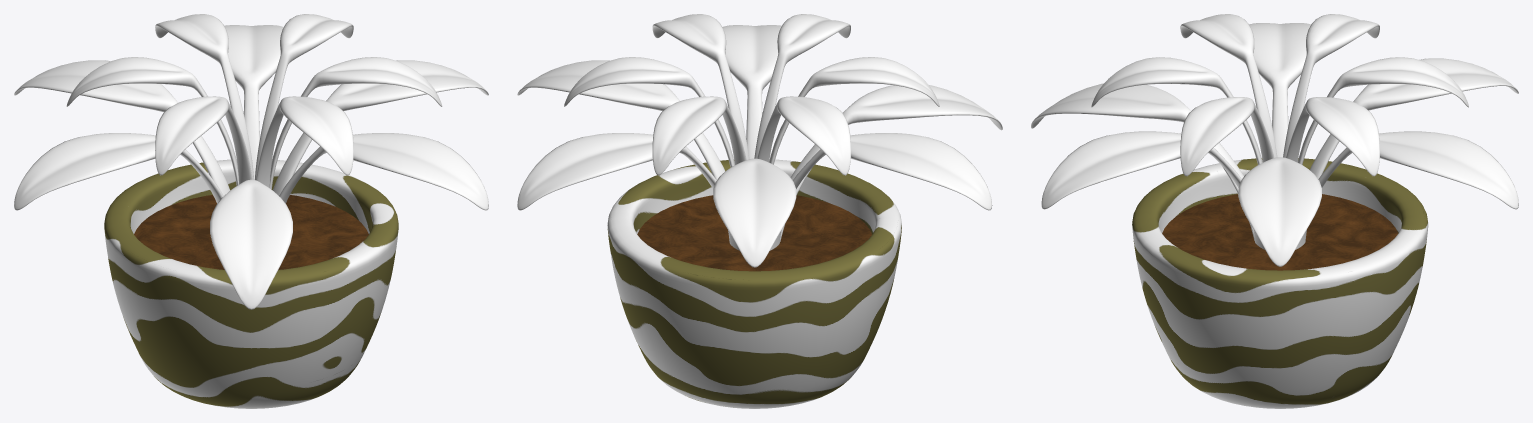
The model's file is WavyPlantPot.glb.
3 renders of one model, left to right at view 1: azimuth 30°, elevation 25°; view 2: azimuth 150°, elevation 25°; view 3: azimuth 270°, elevation 25°, orthographic.
Parts seen in each view (by area): view 1: Flower Pot, Dirt, Leaf.005, Leaf, Leaf.004, Leaf.011, Leaf.006, Leaf.001, Leaf.002, Leaf.003, Leaf.010, Leaf.007 (+2 smaller); view 2: Flower Pot, Dirt, Leaf.001, Leaf, Leaf.002, Leaf.005, Leaf.004, Leaf.008, Leaf.007, Leaf.003, Leaf.009, Leaf.006 (+2 smaller); view 3: Flower Pot, Dirt, Leaf.003, Leaf.004, Leaf.002, Leaf, Leaf.005, Leaf.009, Leaf.010, Leaf.001, Leaf.008, Leaf.011 (+2 smaller).
Boxes of the visible parts, x1=… form: Flower Pot: x1=104, y1=159, x2=398, y2=408; Dirt: x1=134, y1=195, x2=368, y2=269; Leaf.005: x1=210, y1=179, x2=292, y2=309; Leaf: x1=14, y1=133, x2=223, y2=210; Leaf.004: x1=279, y1=133, x2=488, y2=210; Leaf.011: x1=256, y1=96, x2=353, y2=187; Leaf.006: x1=155, y1=96, x2=252, y2=184; Leaf.001: x1=14, y1=60, x2=230, y2=195; Leaf.002: x1=224, y1=25, x2=283, y2=179; Leaf.003: x1=272, y1=60, x2=488, y2=195; Leaf.010: x1=269, y1=57, x2=442, y2=189; Leaf.007: x1=66, y1=57, x2=238, y2=185; Flower Pot: x1=607, y1=159, x2=901, y2=408; Dirt: x1=637, y1=195, x2=871, y2=271; Leaf.001: x1=713, y1=158, x2=796, y2=267; Leaf: x1=769, y1=133, x2=992, y2=250; Leaf.002: x1=517, y1=133, x2=739, y2=250; Leaf.005: x1=780, y1=85, x2=1002, y2=241; Leaf.004: x1=722, y1=25, x2=781, y2=158; Leaf.008: x1=652, y1=96, x2=746, y2=175; Leaf.007: x1=757, y1=96, x2=850, y2=175; Leaf.003: x1=517, y1=60, x2=725, y2=179; Leaf.009: x1=564, y1=57, x2=734, y2=167; Leaf.006: x1=769, y1=57, x2=939, y2=164; Flower Pot: x1=1132, y1=158, x2=1428, y2=408; Dirt: x1=1162, y1=194, x2=1398, y2=270; Leaf.003: x1=1238, y1=157, x2=1321, y2=266; Leaf.004: x1=1041, y1=131, x2=1264, y2=249; Leaf.002: x1=1295, y1=131, x2=1518, y2=249; Leaf: x1=1249, y1=23, x2=1310, y2=157; Leaf.005: x1=1031, y1=83, x2=1254, y2=240; Leaf.009: x1=1286, y1=97, x2=1379, y2=176; Leaf.010: x1=1180, y1=97, x2=1274, y2=176; Leaf.001: x1=1310, y1=58, x2=1518, y2=178; Leaf.008: x1=1298, y1=57, x2=1468, y2=164; Leaf.011: x1=1091, y1=57, x2=1262, y2=164.
Size of the model in its own units: 1.58 by 0.9831 by 1.41.
Materials: 3 (2 with a texture image).
